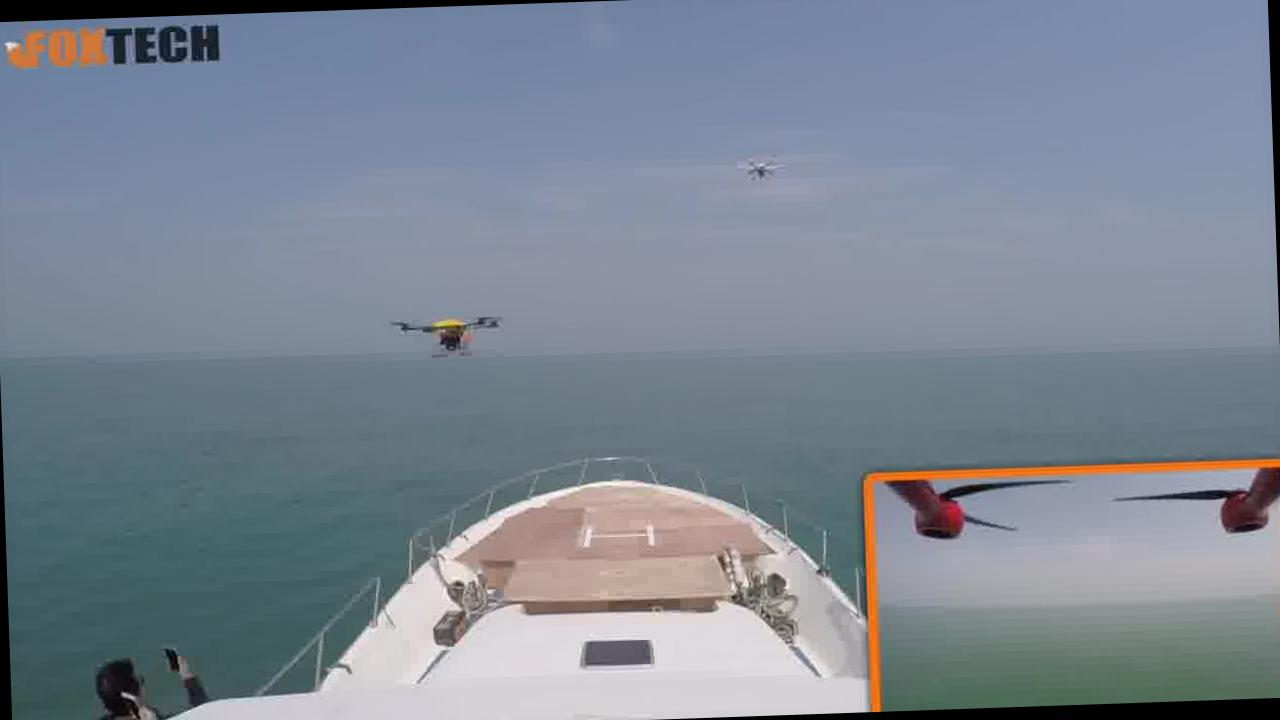drone: (388, 300, 512, 373), (724, 146, 798, 191)
